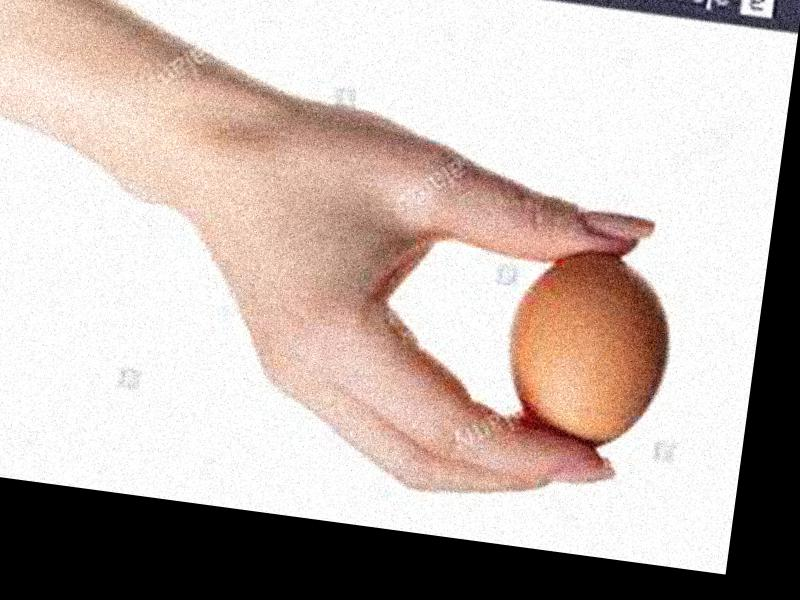Eggs: (493, 246, 677, 454)
